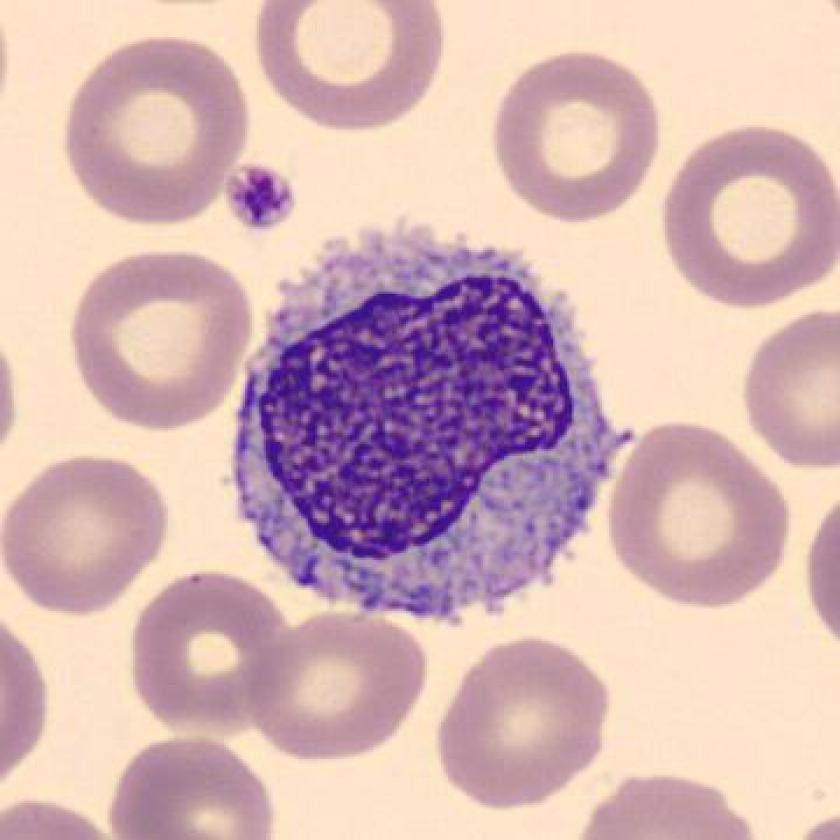monocyte: (221, 202, 641, 635)
